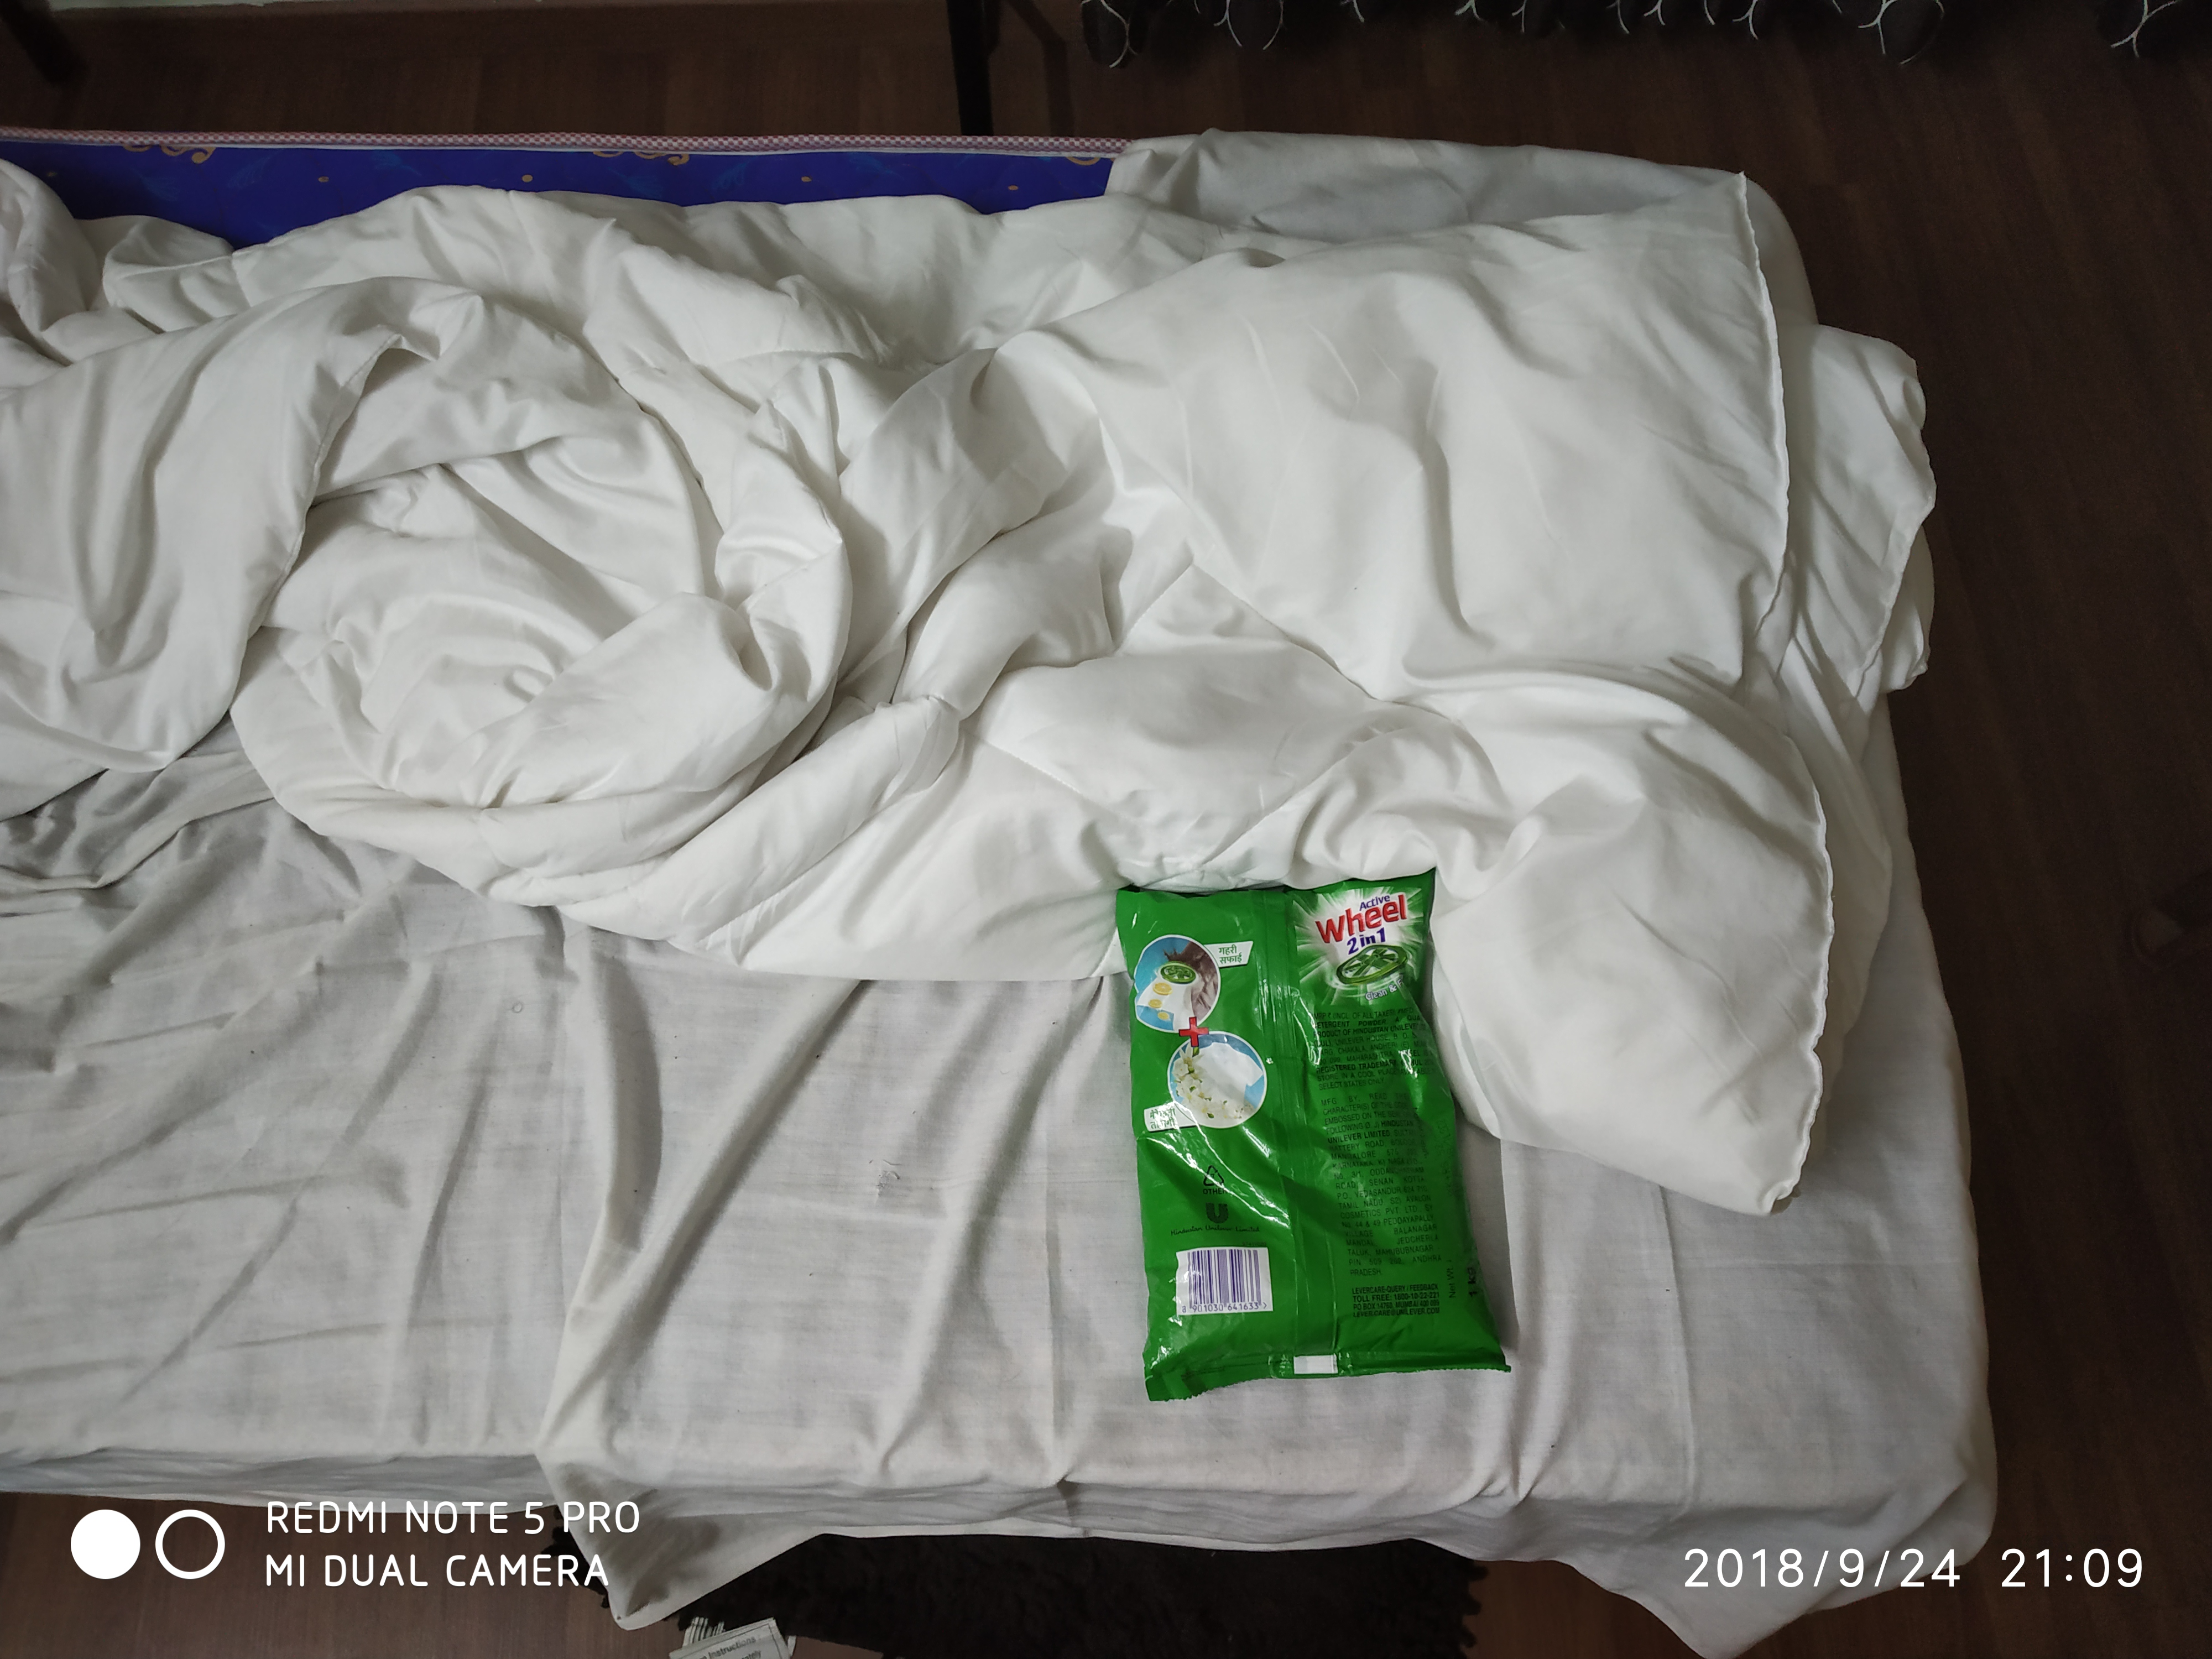detergent: (1098, 846, 1503, 1406)
